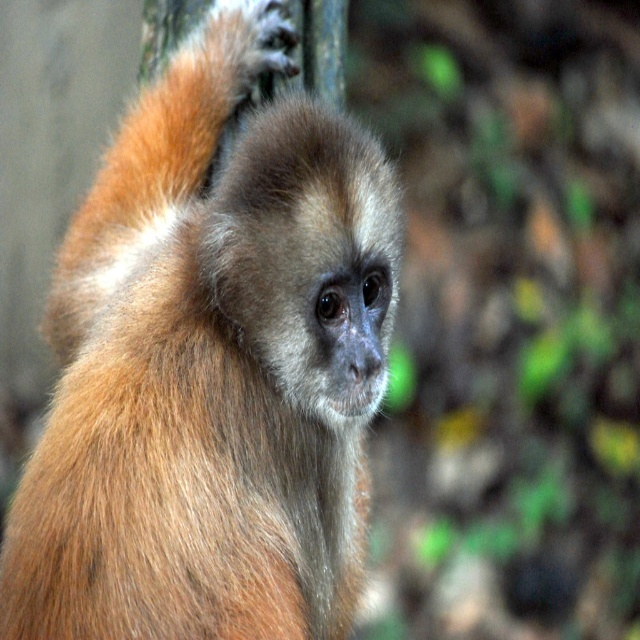Monkey: (0, 0, 404, 640)
